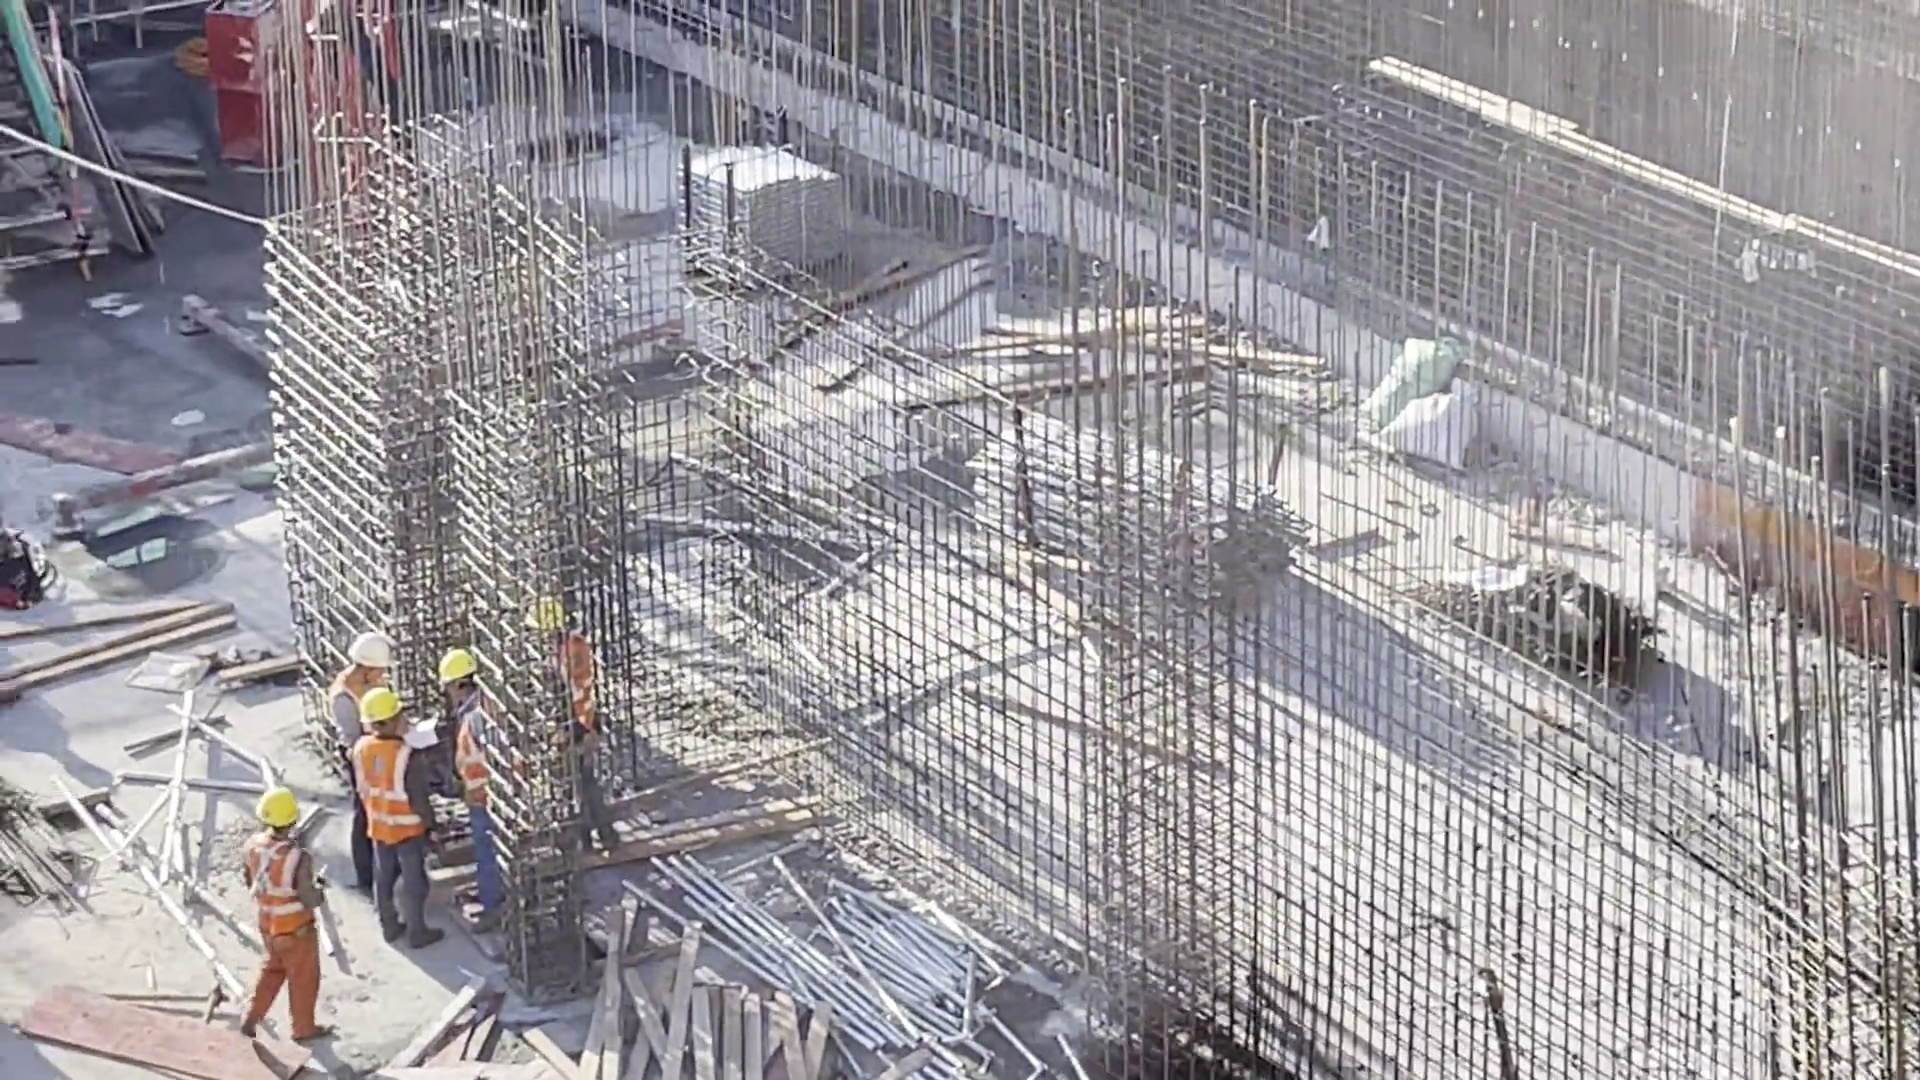helmet: (419, 644, 479, 690), (242, 788, 301, 830), (338, 631, 388, 675), (354, 680, 396, 725)
person: (352, 685, 453, 951), (241, 781, 342, 1048), (521, 602, 621, 870), (431, 645, 513, 941), (324, 632, 397, 749)
vest: (241, 836, 346, 1032), (346, 740, 423, 851)
